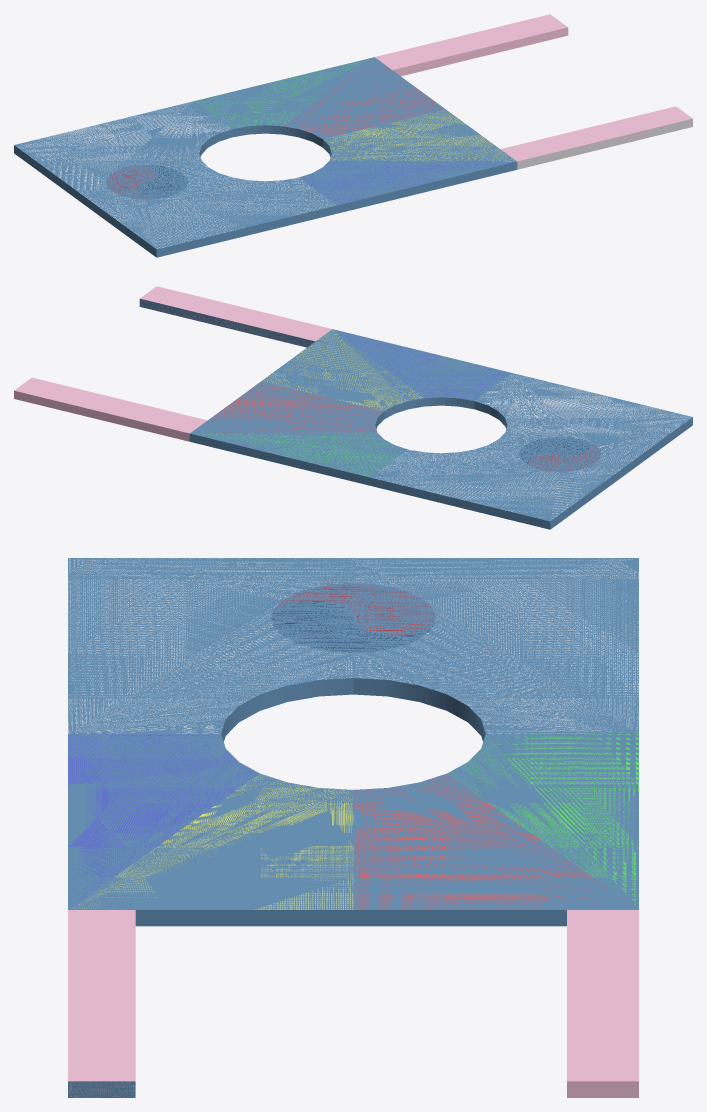
The model's file is kite.dae.
The picture shows the model from 3 angles, top to bottom: view 1: azimuth 30°, elevation 25°; view 2: azimuth 150°, elevation 25°; view 3: azimuth 270°, elevation 25°; orthographic projection. The views are drawn at different scales.
Parts seen in each view (by area): view 1: Body (×8), group_0, group_1 (×2), SketchUp; view 2: Body (×8), group_0, group_1 (×2), SketchUp; view 3: Body (×8), group_1 (×2), group_0, SketchUp (×2).
Boxes of the visible parts, box(x1,y1,x2,y2) form: Body (×8): box(14, 57, 517, 257); group_0: box(375, 14, 568, 76); group_1 (×2): box(500, 106, 692, 169); SketchUp: box(105, 166, 160, 199); Body (×8): box(189, 329, 692, 529); group_0: box(14, 377, 207, 441); group_1 (×2): box(139, 286, 331, 347); SketchUp: box(529, 441, 601, 471); Body (×8): box(68, 558, 638, 926); group_1 (×2): box(68, 910, 135, 1097); group_0: box(567, 910, 638, 1081); SketchUp (×2): box(273, 583, 638, 1097).
Bounding box in the file's own units: 107 × 49.26 × 1.57.
